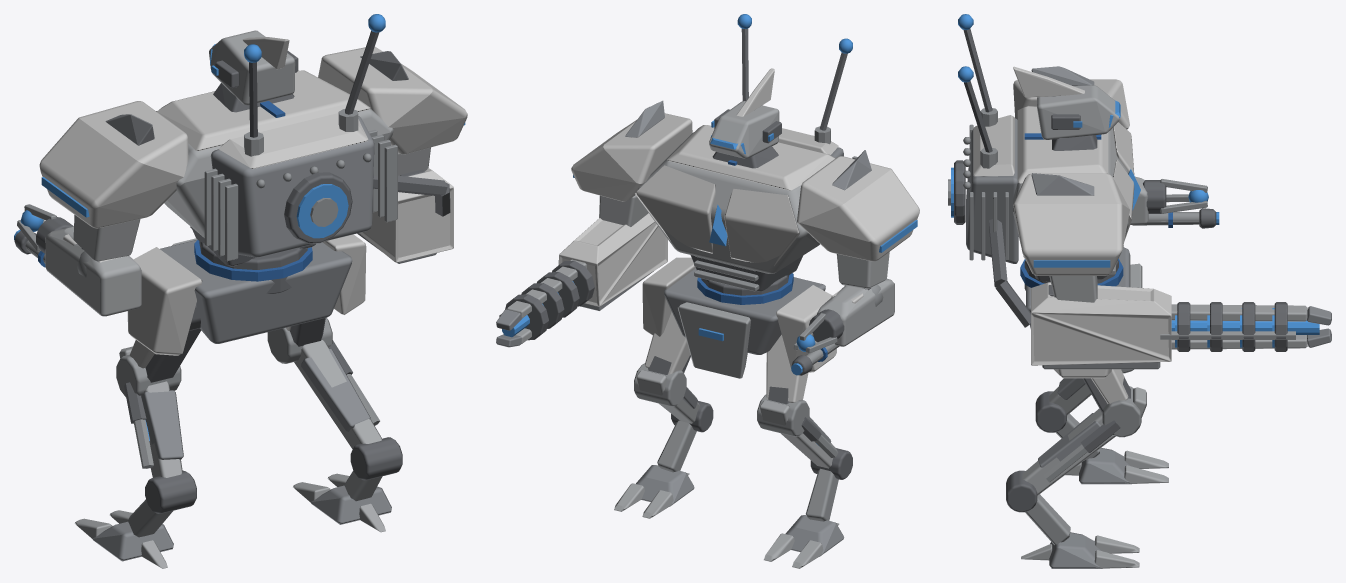
Rendered from lattice_commander.glb.
3 renders of one model, left to right at view 1: azimuth 30°, elevation 25°; view 2: azimuth 150°, elevation 25°; view 3: azimuth 270°, elevation 25°, orthographic. The views are drawn at different scales.
Visible parts, largest first — view 1: Turret, Body; view 2: Turret, Body; view 3: Turret, Body.
Boxes of the visible parts, x1=… form: Turret: x1=14, y1=14, x2=467, y2=316; Body: x1=74, y1=234, x2=402, y2=568; Turret: x1=496, y1=14, x2=919, y2=375; Body: x1=614, y1=257, x2=852, y2=568; Turret: x1=948, y1=14, x2=1331, y2=369; Body: x1=1006, y1=245, x2=1168, y2=568.
Size of the model in its own units: 1.28 by 1.78 by 1.3.
